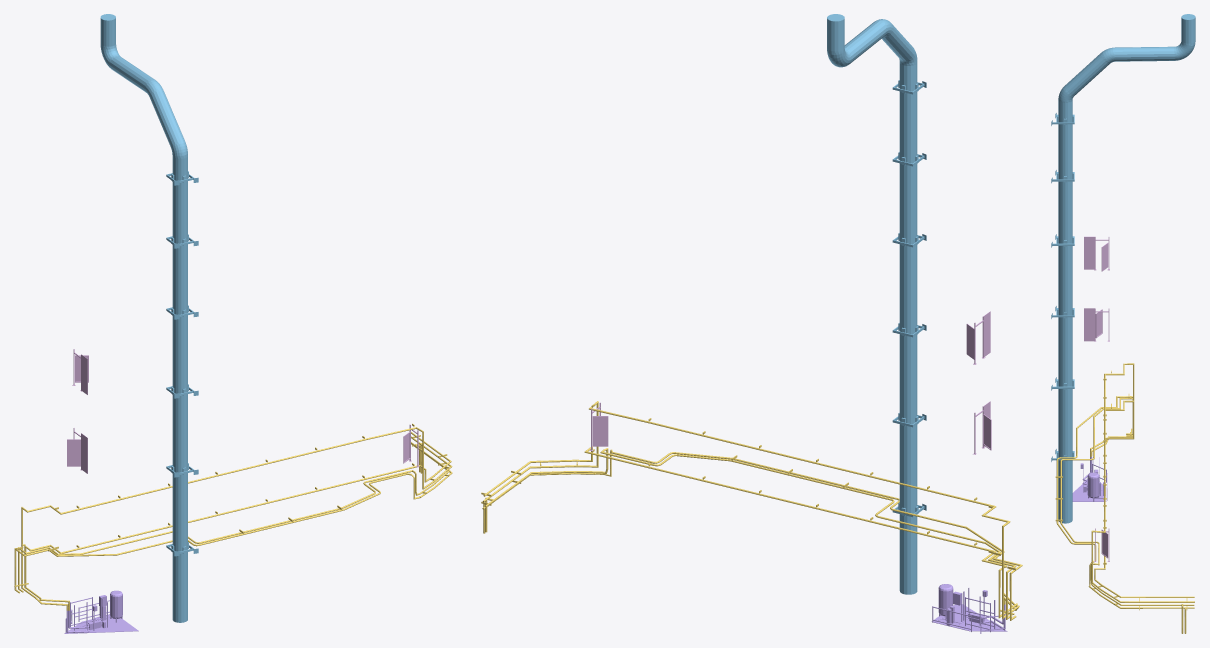
The model's file is HO-side-A-Services-cut3.glb.
3 views of the same model, side by side, from view 1: azimuth 30°, elevation 25°; view 2: azimuth 150°, elevation 25°; view 3: azimuth 270°, elevation 25° (orthographic). The views are drawn at different scales.
Visible parts, largest first — view 1: _000001D30260A5D0_IndexedFaceSet, _000001D303CBB080_IndexedFaceSet, _000001D302610300_IndexedFaceSet, _000001D302716090_IndexedFaceSet; view 2: _000001D30260A5D0_IndexedFaceSet, _000001D303CBB080_IndexedFaceSet, _000001D302610300_IndexedFaceSet, _000001D302716090_IndexedFaceSet; view 3: _000001D30260A5D0_IndexedFaceSet, _000001D303CBB080_IndexedFaceSet, _000001D302716090_IndexedFaceSet, _000001D302610300_IndexedFaceSet.
Part boxes in pixels (x1,y1,x2,y2): _000001D30260A5D0_IndexedFaceSet: (100, 14, 198, 622); _000001D303CBB080_IndexedFaceSet: (14, 423, 452, 610); _000001D302610300_IndexedFaceSet: (64, 590, 138, 633); _000001D302716090_IndexedFaceSet: (67, 349, 419, 473); _000001D30260A5D0_IndexedFaceSet: (827, 14, 926, 594); _000001D303CBB080_IndexedFaceSet: (481, 401, 1022, 620); _000001D302610300_IndexedFaceSet: (931, 584, 1007, 633); _000001D302716090_IndexedFaceSet: (590, 311, 991, 454); _000001D30260A5D0_IndexedFaceSet: (1051, 14, 1195, 523); _000001D303CBB080_IndexedFaceSet: (1055, 363, 1194, 633); _000001D302716090_IndexedFaceSet: (1084, 236, 1109, 561); _000001D302610300_IndexedFaceSet: (1072, 456, 1107, 501).
Size of the model in its own units: 28.97 by 35.11 by 9.14.
